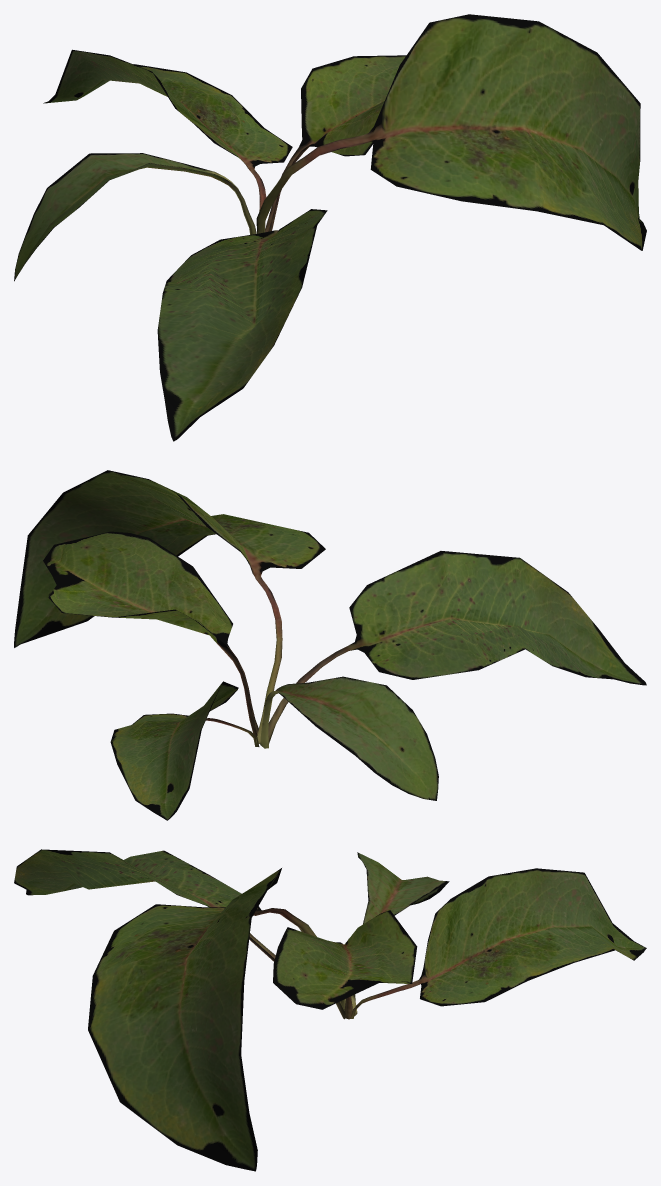
File: weed_b.glb
3 renders of one model, top to bottom at view 1: azimuth 30°, elevation 25°; view 2: azimuth 150°, elevation 25°; view 3: azimuth 270°, elevation 25°, orthographic. The views are drawn at different scales.
Visible parts, largest first — view 1: weed_b; view 2: weed_b; view 3: weed_b.
Boxes of the visible parts, left/top/right/bottom form: weed_b: left=14, top=14, right=646, bottom=441; weed_b: left=14, top=470, right=646, bottom=820; weed_b: left=14, top=849, right=646, bottom=1171.
Size of the model in its own units: 0.1424 by 0.0547 by 0.1435.
1 material, 1 textured.
